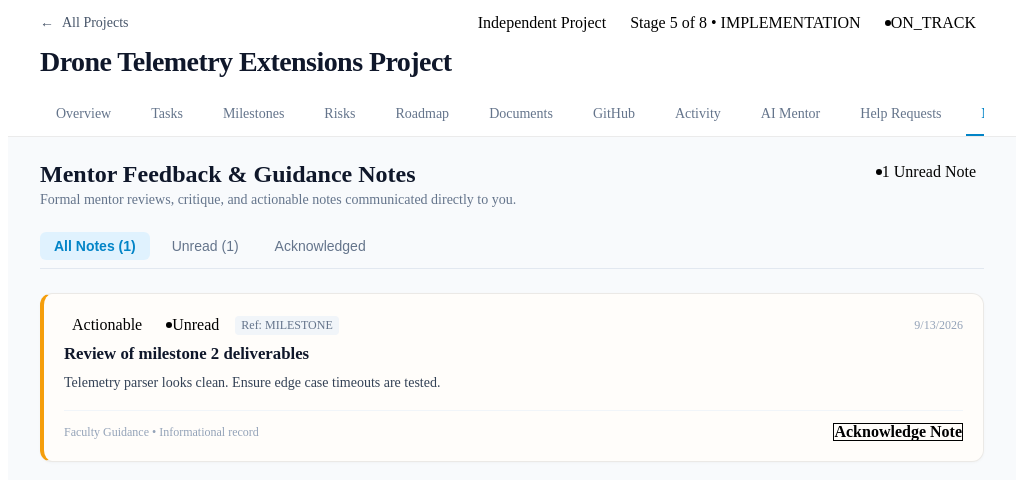
Test: Student Workspace Extensions (Batch 06: S27–S33) › S31: StudentMentorFeedback › renders feedback notes and acknowledges an unread note
Expected: the heading "Mentor Feedback & Guidance Notes" is shown, [40,161,416,187]
Expected: the heading "Review of milestone 2 deliverables" is shown, [64,344,309,363]
Click the button "Acknowledge Note" at (898, 432), box [834,423,963,441]
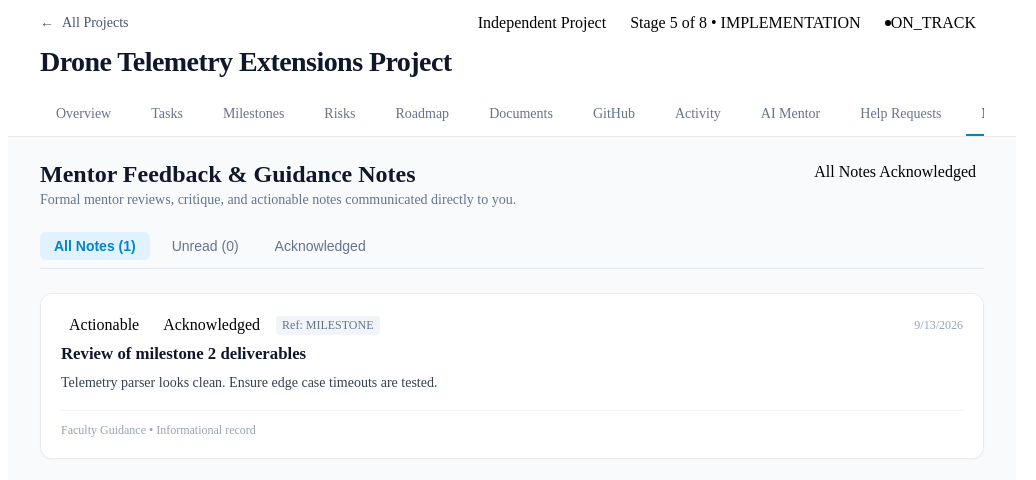
Expected: the text "All Notes Acknowledged" is shown, [806,161,984,183]
